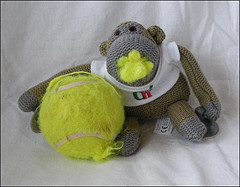tennis ball: (37, 74, 127, 161)
